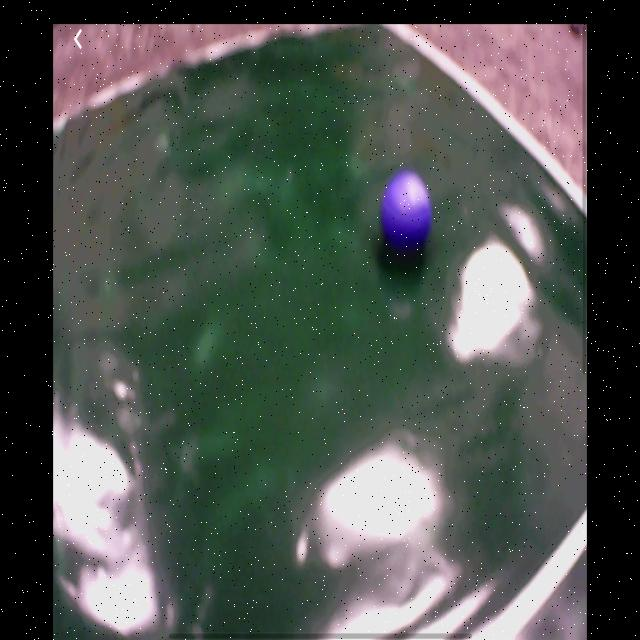ball: (381, 173, 432, 253)
